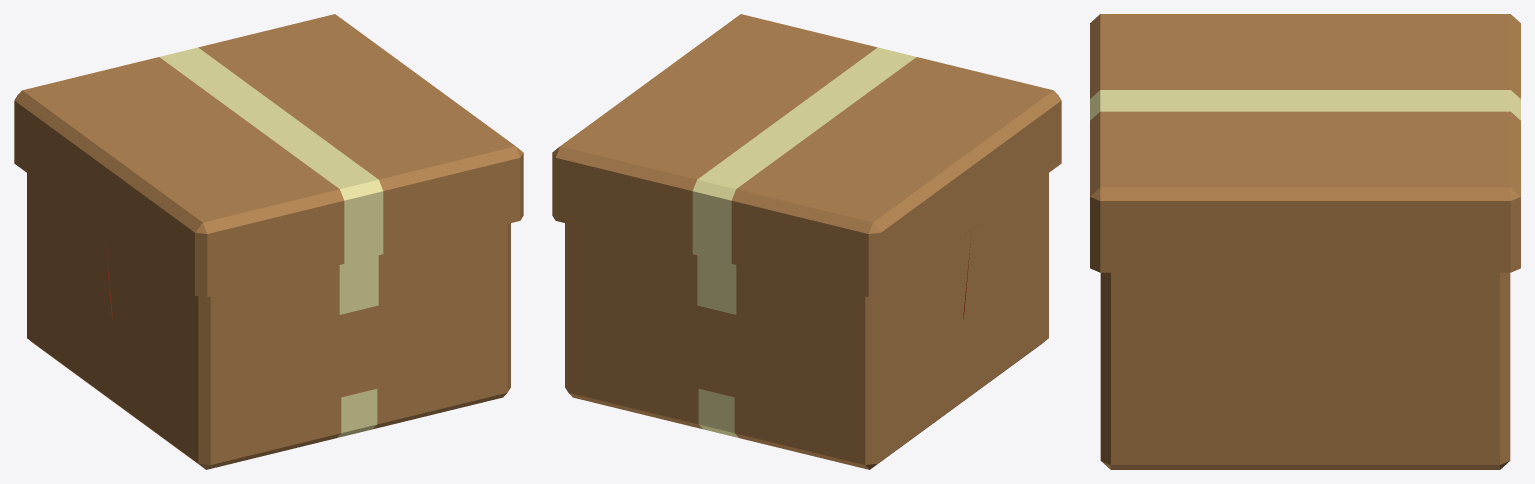
The model's file is Cardboard.030.gltf.
3 renders of one model, left to right at view 1: azimuth 30°, elevation 25°; view 2: azimuth 150°, elevation 25°; view 3: azimuth 270°, elevation 25°, orthographic. The views are drawn at different scales.
Visible parts, largest first — view 1: Cardboard.030; view 2: Cardboard.030; view 3: Cardboard.030.
Part boxes in pixels (left/top/right/bottom): Cardboard.030: left=14, top=14, right=523, bottom=469; Cardboard.030: left=552, top=14, right=1061, bottom=469; Cardboard.030: left=1090, top=14, right=1520, bottom=469.
Size of the model in its own units: 0.4786 by 0.3512 by 0.478.
Materials: 4 (2 with a texture image).
